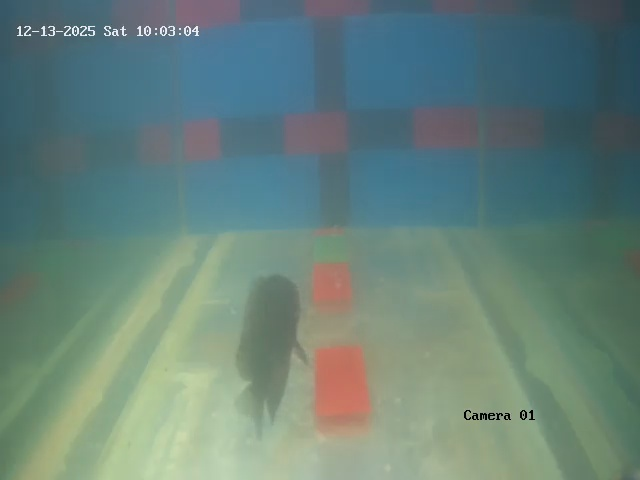fish: (235, 275, 303, 401)
